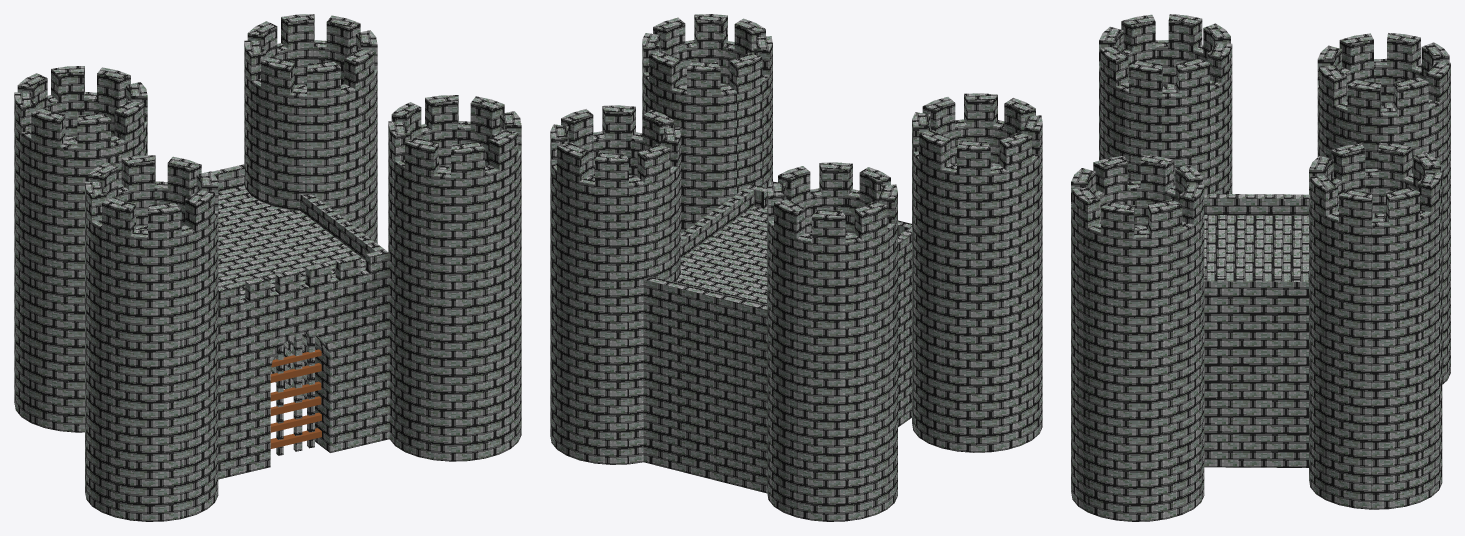
The model's file is castle.obj.
3 renders of one model, left to right at view 1: azimuth 30°, elevation 25°; view 2: azimuth 150°, elevation 25°; view 3: azimuth 270°, elevation 25°, orthographic. The views are drawn at different scales.
Visible parts, largest first — view 1: Mesh1 Model, Mesh5 Model, Mesh4 Model; view 2: Mesh1 Model; view 3: Mesh1 Model.
Boxes of the visible parts, x1,y1,x2,y2 form: Mesh1 Model: (14, 14, 521, 521); Mesh5 Model: (293, 334, 302, 451); Mesh4 Model: (307, 334, 314, 448); Mesh1 Model: (550, 14, 1042, 521); Mesh1 Model: (1071, 14, 1450, 521).
Bounding box in the file's own units: 7.35 × 5.39 × 5.97.
